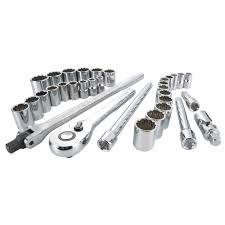wrench: (47, 86, 136, 158)
